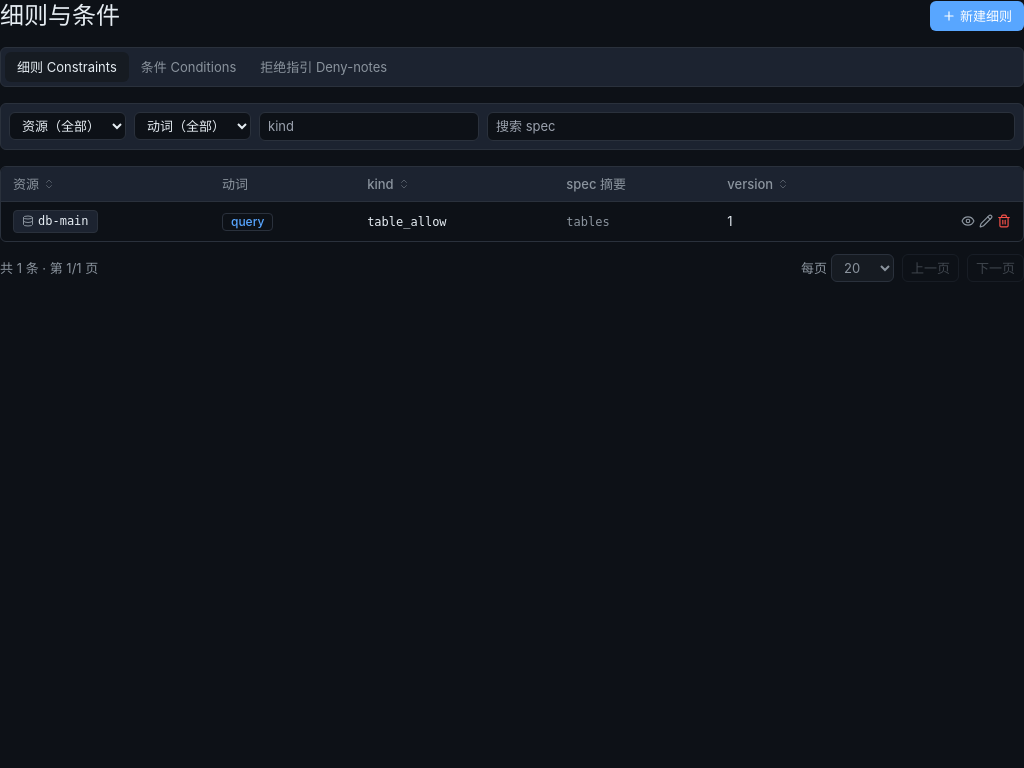
Test: ConstraintsPage — 契约：分页钳制 & 雪花 id 不丢精度 › snowflake id is preserved as a STRING (no >2^53 precision loss) in detail
Check: the text "table_allow" is shown, box [367,215,447,229]
Open the detail drawer for the constraint row.
Step 1. Click the button named "查看详情" → click(968, 221), box [961,214,975,228]
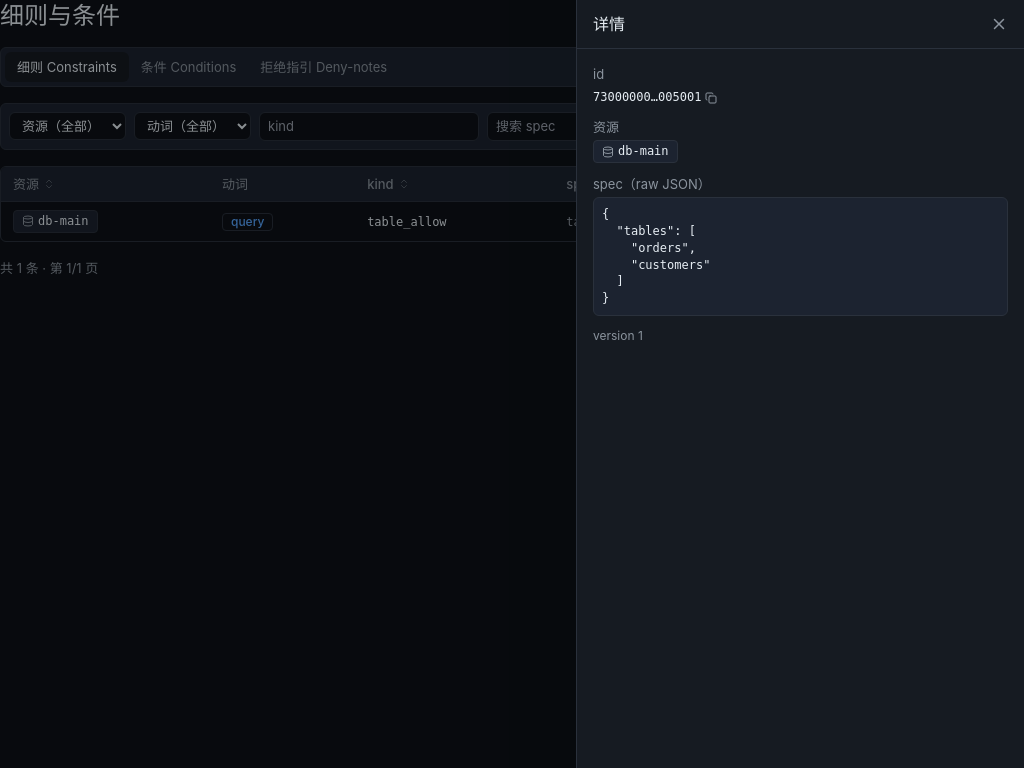
Check: the text titled "7300000000000005001" is shown, box [593,89,701,106]
